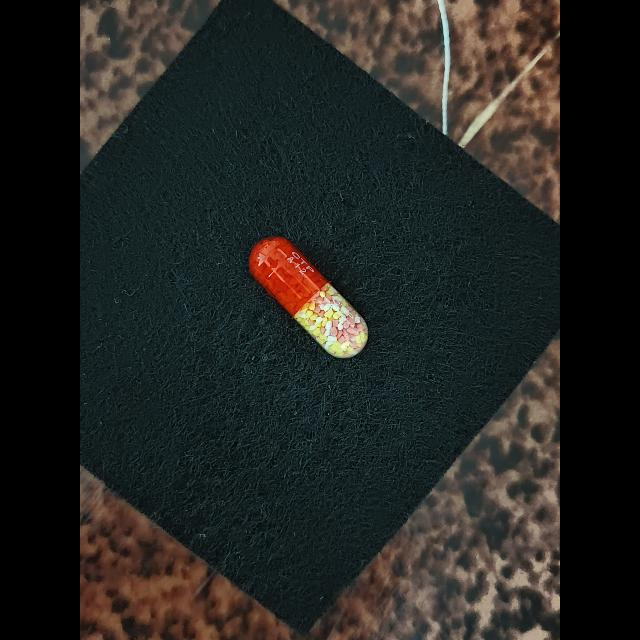Intact Capsule: (249, 236, 368, 358)
